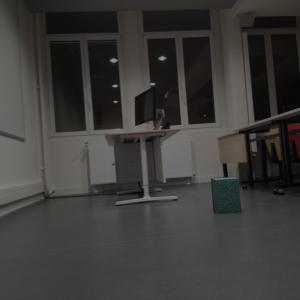small: (208, 172, 245, 216)
